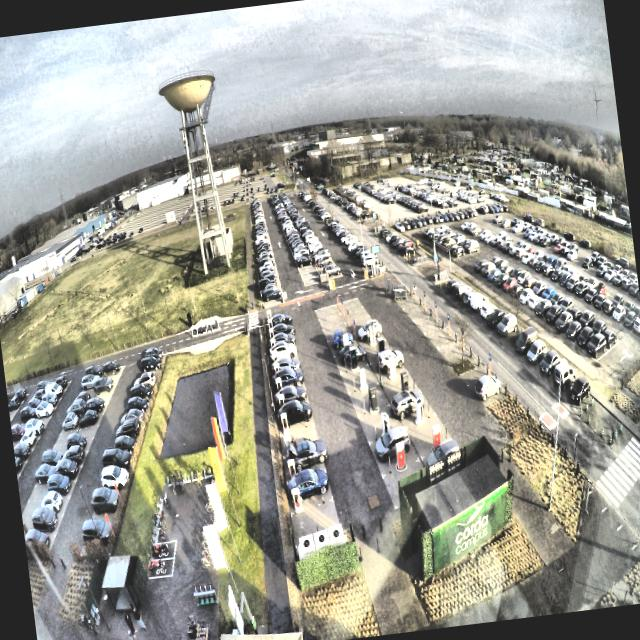cabinet: (298, 525, 345, 553)
car: (285, 463, 330, 503), (285, 437, 327, 473), (276, 398, 312, 430), (271, 365, 306, 390), (273, 383, 307, 408), (269, 355, 301, 376), (268, 340, 297, 360), (268, 321, 295, 340), (269, 332, 296, 346), (271, 312, 292, 328)
parking: (286, 469, 333, 512), (291, 501, 340, 541), (283, 444, 325, 481), (279, 425, 319, 457), (276, 406, 313, 435), (274, 387, 309, 413), (272, 372, 304, 394), (270, 357, 301, 378), (269, 345, 297, 364), (267, 337, 294, 353), (266, 327, 292, 342), (265, 317, 290, 332)
supercharger: (291, 488, 302, 511), (282, 433, 292, 456), (287, 459, 297, 481), (280, 412, 289, 433), (275, 376, 283, 394), (277, 394, 285, 410), (273, 361, 280, 377), (271, 349, 278, 363), (270, 338, 276, 350), (268, 327, 274, 338), (267, 317, 272, 329), (266, 309, 271, 319)
